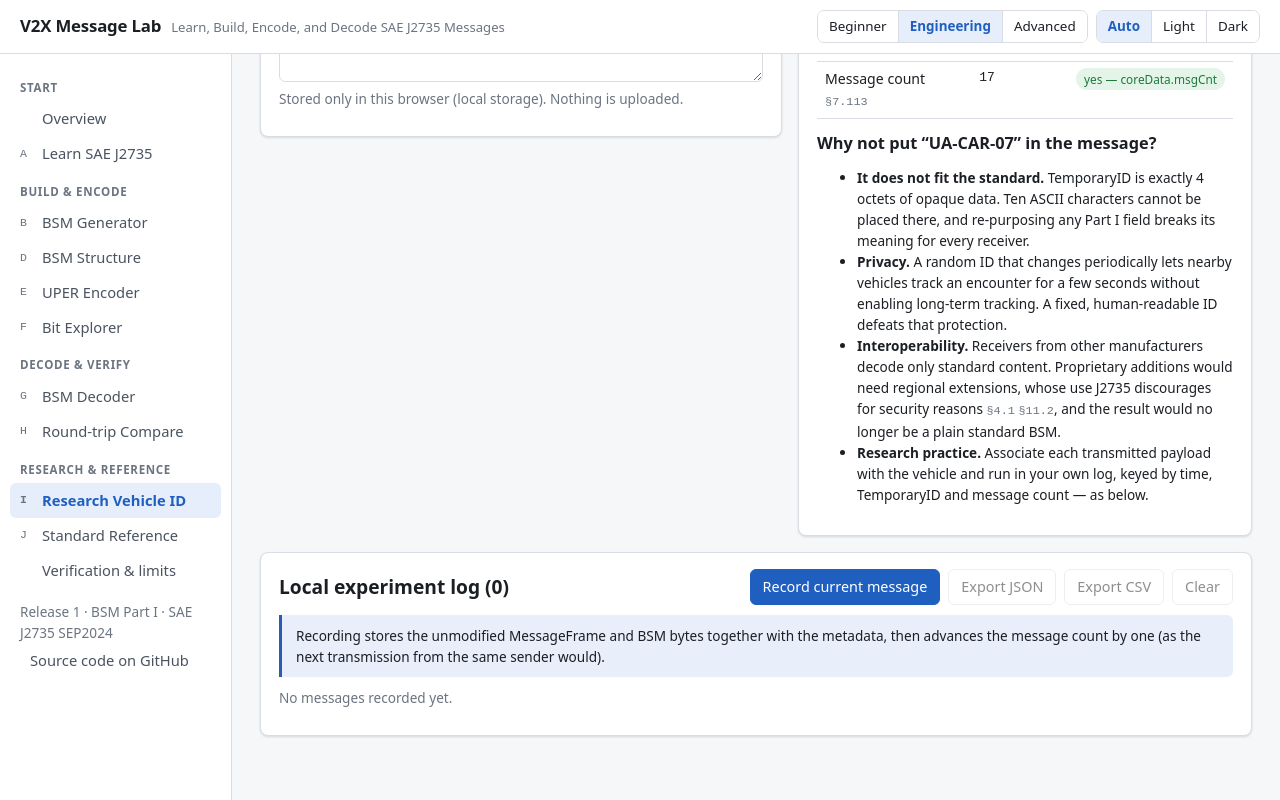
Test: research identifiers › records messages with metadata but never changes the BSM
(page scrolled)
Expected: the heading "Local experiment log (0)" is shown, [279,575,509,599]
Step 1. Click the button "Record current message" → (845, 587), box [750,569,940,605]
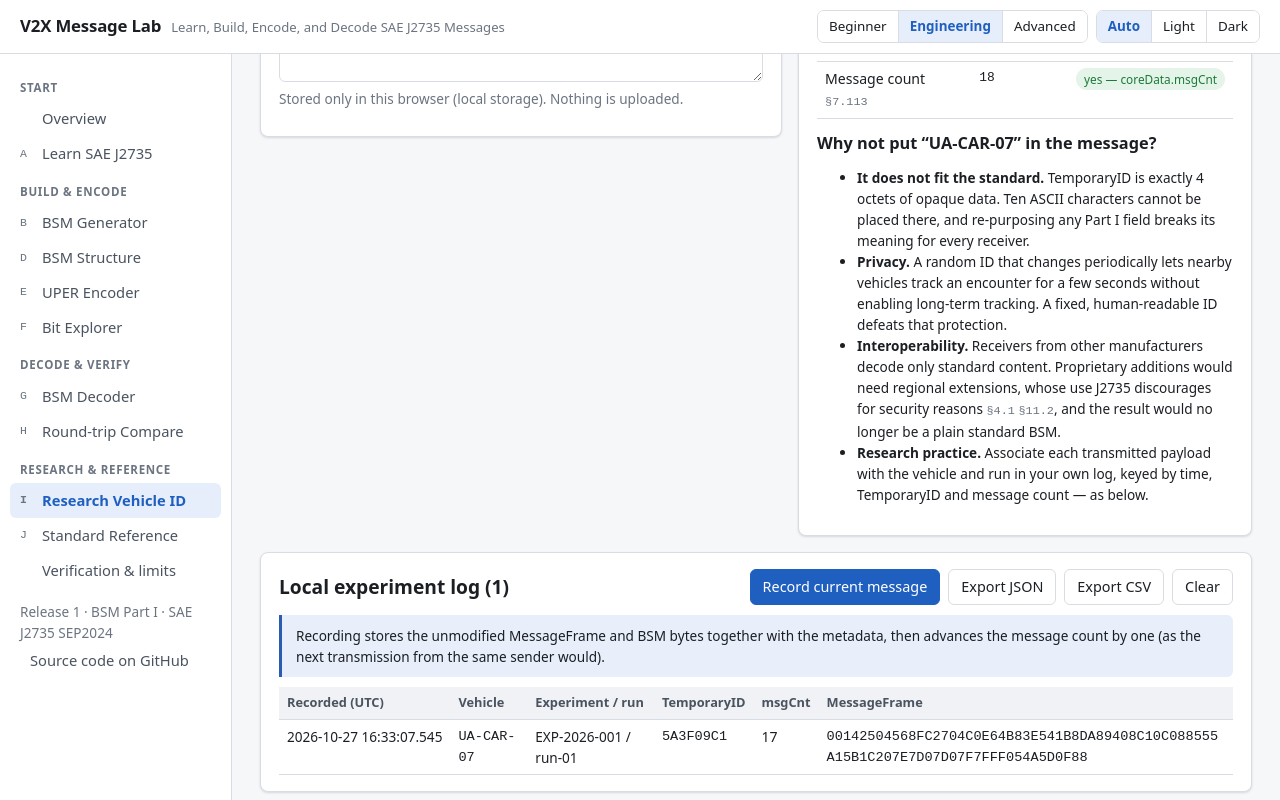
Expected: the heading "Local experiment log (1)" is shown, [279,575,509,599]
